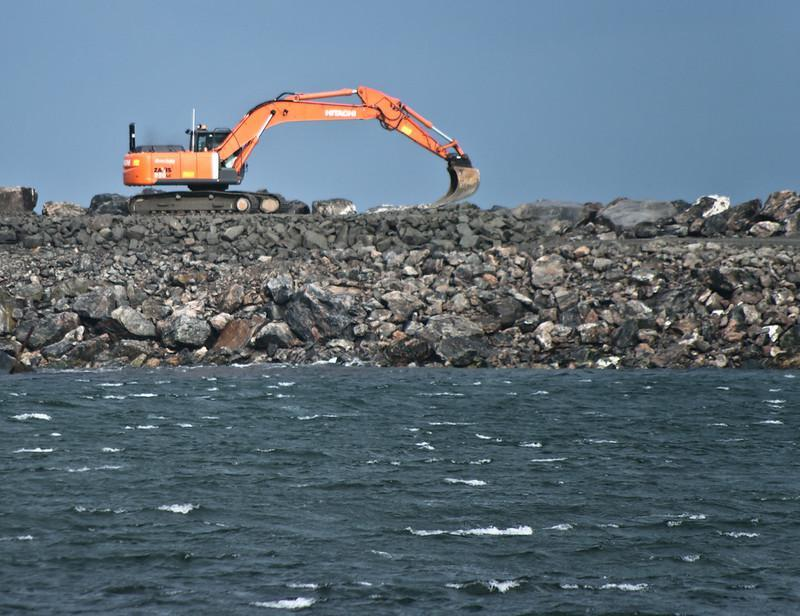EXCAVATORS: (125, 85, 482, 217)
